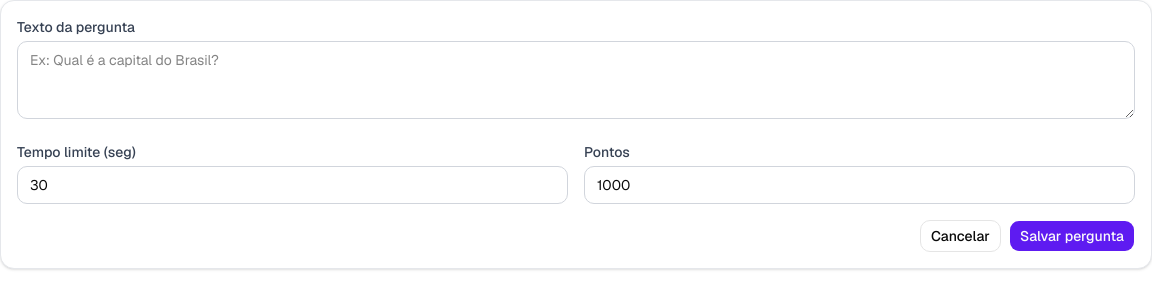
Test: QuestionForm › when text is empty › should show validation error
Click the button with test id "btn-submit-question" at (1072, 236), box [1009, 220, 1135, 252]
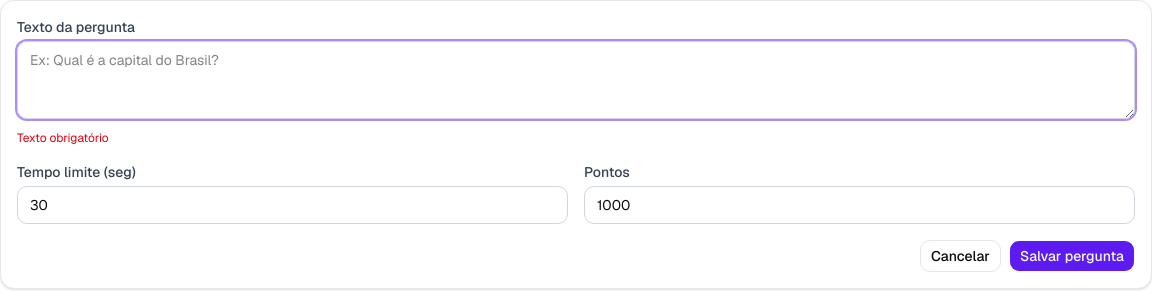
Expected: the text "Texto obrigatório" is shown, [17, 130, 109, 146]
